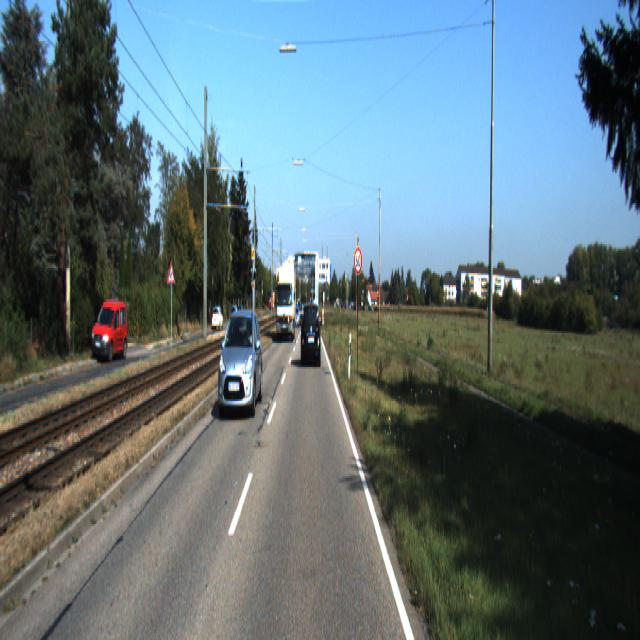Car: (218, 310, 265, 424), (92, 298, 128, 364), (276, 263, 296, 345), (302, 302, 322, 369)
